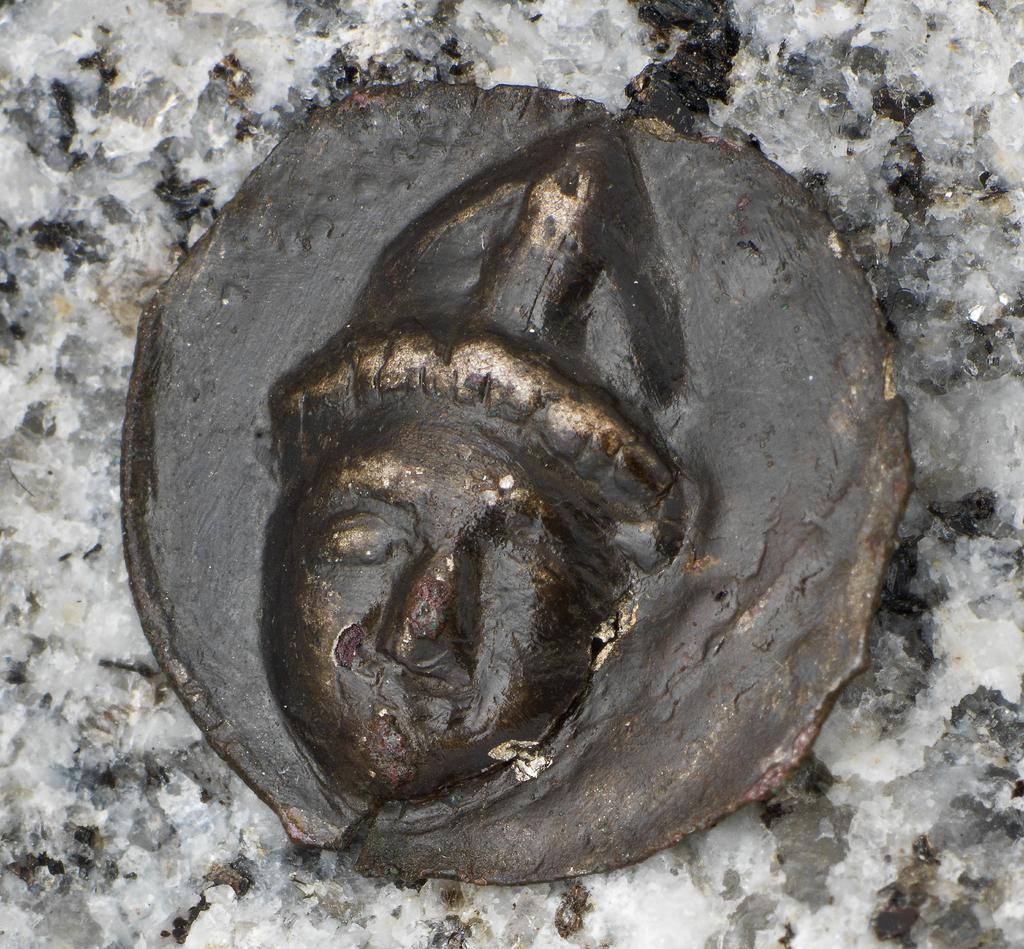Sem Máscara: (292, 394, 563, 802)
